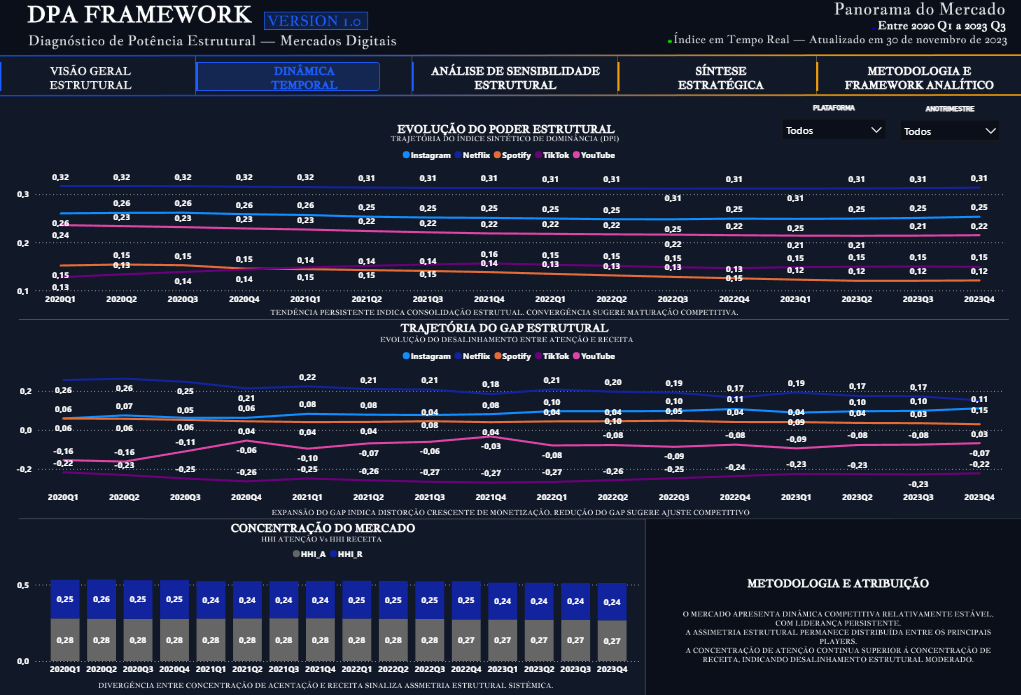

The dashboard page shown, as its layout file describes it:
{"tool":"powerbi","page":{"name":"Dinâmica Temporal","canvas":[1460,1000],"ordinal":1},"visuals":[{"type":"lineChart","fields":{"Category":["FATO_USUARIOS_TRIMESTRAL.AnoTrimestre"],"Series":["DIM_PLATAFORMA.Plataforma"],"Y":["FATO_USUARIOS_TRIMESTRAL.DPI Score"]},"box":[18.6,202.9,1420.7,243.6],"z":0},{"type":"lineChart","fields":{"Category":["DIM_CALENDARIO.AnoTrimestre"],"Y":["FATO_USUARIOS_TRIMESTRAL.Power Gap"],"Series":["DIM_PLATAFORMA.Plataforma"]},"box":[18.2,490,1420.9,239.1],"z":1000},{"type":"columnChart","fields":{"Category":["DIM_CALENDARIO.AnoTrimestre"],"Y":["FATO_USUARIOS_TRIMESTRAL.HHI_A","FATO_USUARIOS_TRIMESTRAL.HHI_R"]},"box":[18.6,772.9,902.9,202.9],"z":2000},{"type":"slicer","title":"PLATAFORMA","fields":{"Values":["DIM_PLATAFORMA.Plataforma"]},"box":[1107.1,150,168.6,52.9],"z":3000},{"type":"slicer","title":"ANOTRIMESTRE","fields":{"Values":["DIM_CALENDARIO.AnoTrimestre"]},"box":[1275.6,150.9,163.3,56.1],"z":4000}]}

Visuals, with their boxes in screenshot pixels (x1, y1, x2, y2), scaled from the page's 1460x1000 canvas onto the 1021x695 screenshot:
lineChart - FATO_USUARIOS_TRIMESTRAL.AnoTrimestre x DIM_PLATAFORMA.Plataforma: detection(13, 141, 1007, 310)
lineChart - DIM_CALENDARIO.AnoTrimestre x FATO_USUARIOS_TRIMESTRAL.Power Gap: detection(13, 341, 1006, 507)
columnChart - DIM_CALENDARIO.AnoTrimestre x FATO_USUARIOS_TRIMESTRAL.HHI_A: detection(13, 537, 644, 678)
"PLATAFORMA" slicer: detection(774, 104, 892, 141)
"ANOTRIMESTRE" slicer: detection(892, 105, 1006, 144)
